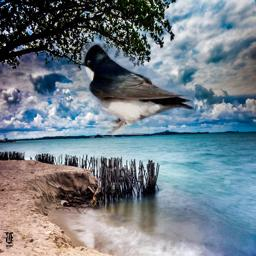Swallow: (81, 43, 195, 135)
